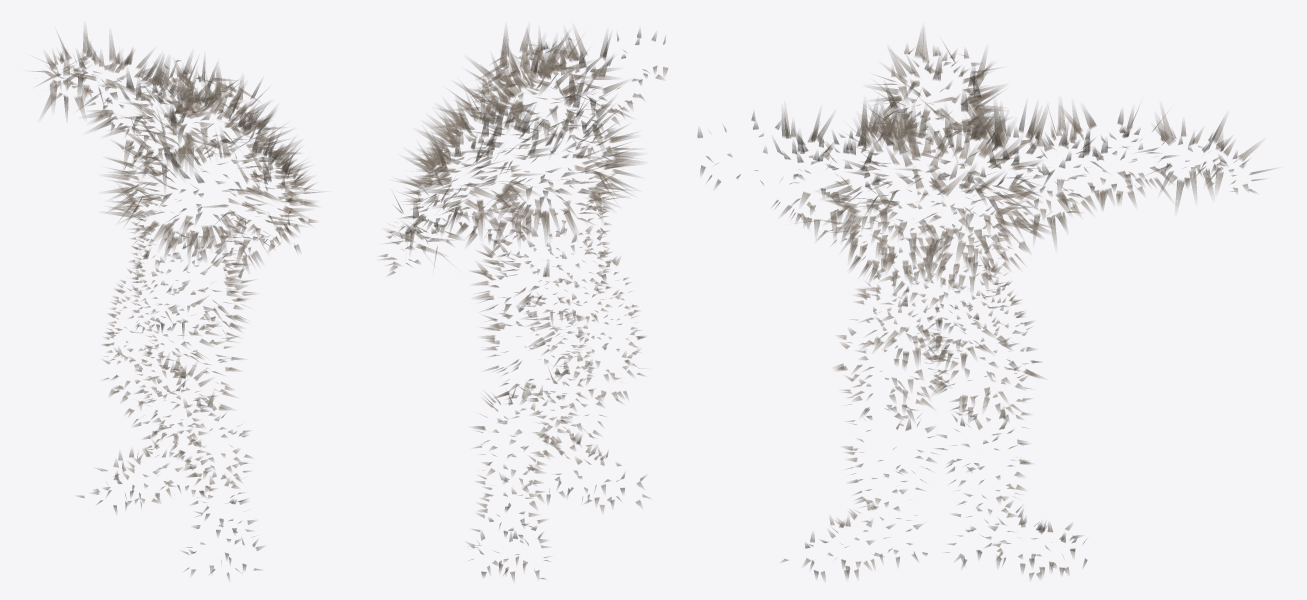
Rendered from fur_cards_lod0_atlas.glb.
3 renders of one model, left to right at view 1: azimuth 30°, elevation 25°; view 2: azimuth 150°, elevation 25°; view 3: azimuth 270°, elevation 25°, orthographic. The views are drawn at different scales.
Parts seen in each view (by area): view 1: FurCards_LOD0; view 2: FurCards_LOD0; view 3: FurCards_LOD0.
Boxes of the visible parts, left/top/right/bottom form: FurCards_LOD0: left=32, top=28, right=319, bottom=580; FurCards_LOD0: left=379, top=28, right=668, bottom=580; FurCards_LOD0: left=697, top=29, right=1274, bottom=580.
Bounding box in the file's own units: 0.8658 × 2.13 × 2.08.
Materials: 1 (1 with a texture image).
